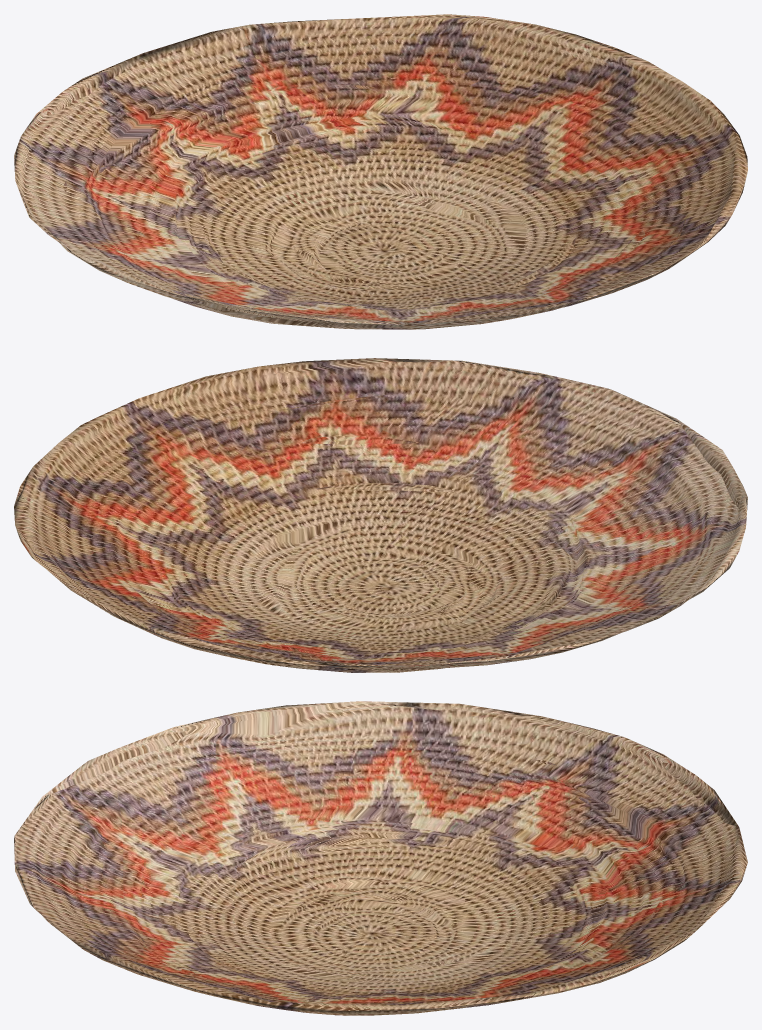
File: Earthy Star Burst Pattern.fbx
3 renders of one model, top to bottom at view 1: azimuth 30°, elevation 25°; view 2: azimuth 150°, elevation 25°; view 3: azimuth 270°, elevation 25°, orthographic.
Visible parts, largest first — view 1: Earthy Star Burst Pattern; view 2: Earthy Star Burst Pattern; view 3: Earthy Star Burst Pattern.
Part boxes in pixels (x1,y1,x2,y2): Earthy Star Burst Pattern: [14, 14, 747, 329]; Earthy Star Burst Pattern: [14, 358, 747, 672]; Earthy Star Burst Pattern: [14, 701, 747, 1015].
Size of the model in its own units: 37.99 by 4.97 by 38.16.
Materials: 1 (1 with a texture image).
